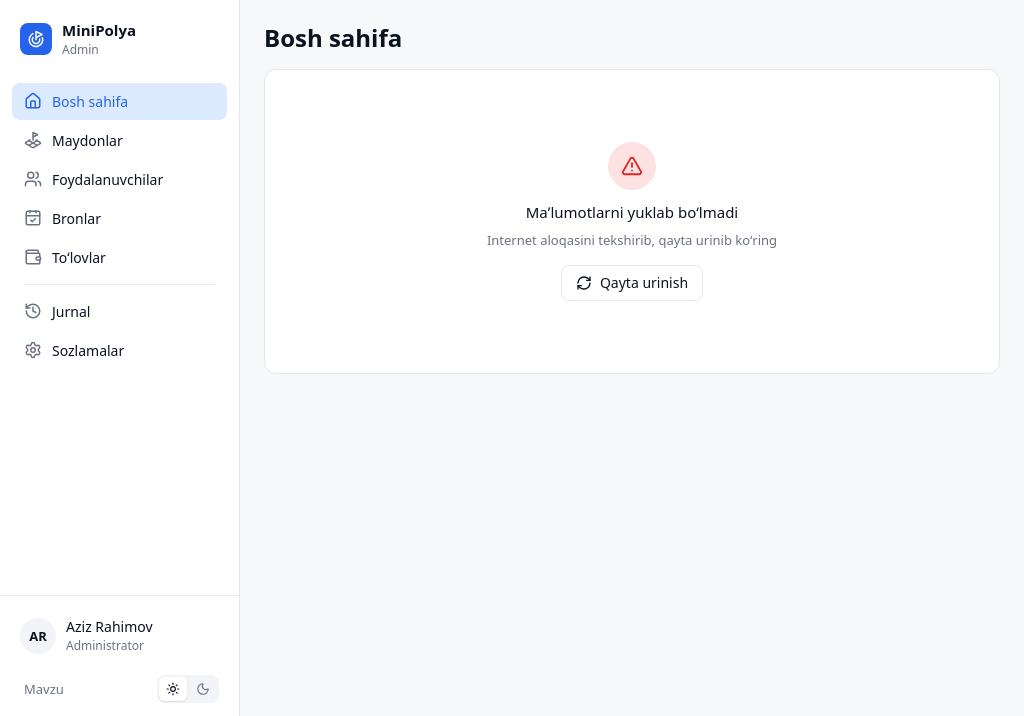
Test case: admin panel › shows an error with a working retry
Check: the message shows "Maʼlumotlarni yuklab boʻlmadi", box [526,202,738,222]
What coordinates should you click on to do the following:
click the button "Qayta urinish"
I would click on:
 (632, 283)
Its box is [561,265,703,301].
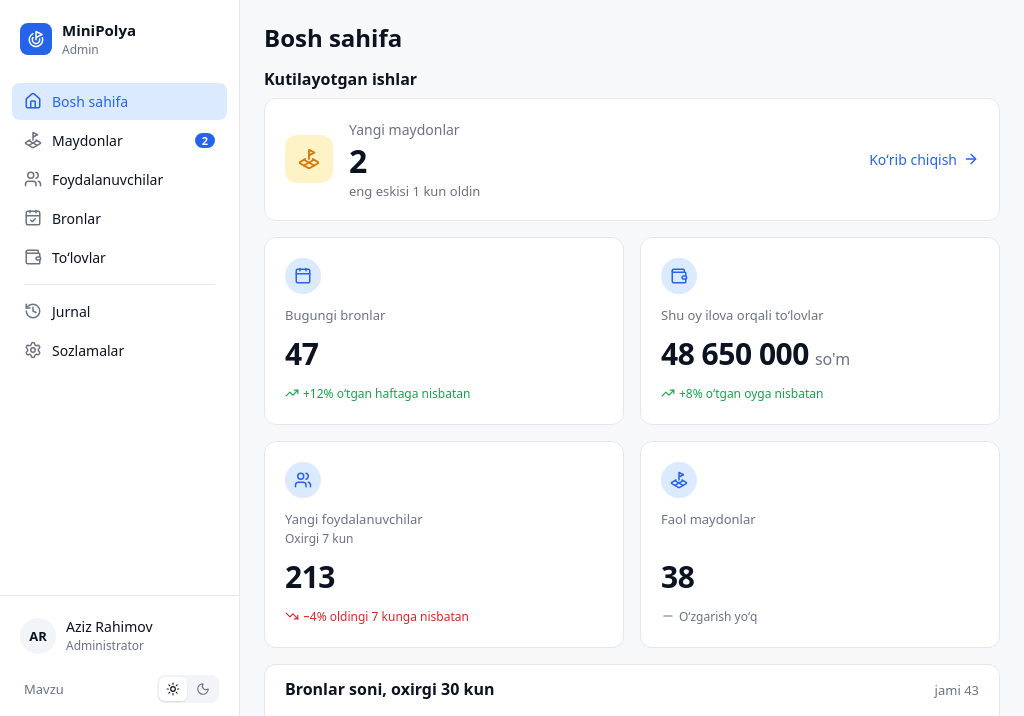
Check: the text "47" is shown, box [285,336,318,372]
